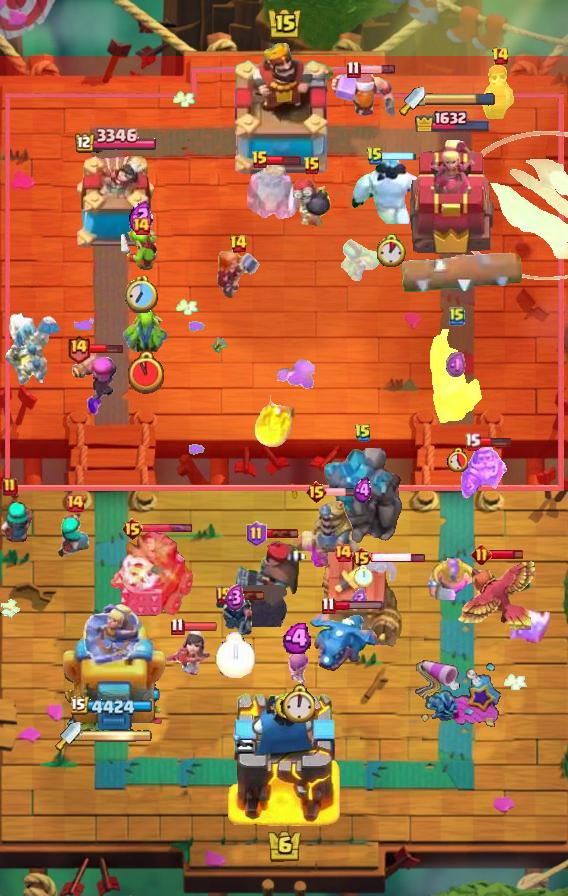bar: (371, 551, 426, 564), (141, 523, 193, 534), (333, 600, 384, 611), (489, 548, 524, 561), (267, 154, 302, 166), (359, 64, 396, 75), (182, 621, 218, 632), (478, 436, 511, 448), (88, 343, 124, 354), (230, 590, 265, 601), (264, 528, 299, 539), (382, 151, 417, 162), (325, 487, 361, 497)
bar-level: (66, 333, 91, 364), (350, 546, 373, 570), (121, 517, 144, 541), (305, 480, 328, 504), (246, 521, 267, 547), (471, 544, 492, 565), (333, 543, 353, 563), (65, 493, 85, 513), (131, 216, 151, 236), (229, 234, 248, 254), (491, 46, 510, 66), (354, 423, 372, 443), (303, 156, 321, 176), (251, 150, 269, 170), (366, 146, 384, 166), (464, 432, 481, 451), (2, 477, 18, 497), (449, 306, 465, 326), (216, 586, 232, 604), (170, 617, 185, 636), (321, 596, 336, 615), (346, 60, 361, 79)
bat: (358, 558, 400, 584)
bomb: (243, 585, 287, 627)
bomber: (291, 175, 333, 227)
clock: (215, 632, 255, 678), (128, 350, 164, 394), (281, 684, 315, 723), (125, 276, 158, 313), (377, 234, 406, 267), (447, 447, 468, 472), (354, 565, 373, 587)
dagger-duchess-tower: (59, 595, 169, 731), (409, 138, 497, 256)
dagger-duchess-tower-bar: (81, 729, 153, 743), (425, 93, 495, 107)
electro-dragon: (307, 609, 377, 673)
elite-barbarian: (428, 557, 477, 600)
elixir: (282, 623, 315, 654), (129, 198, 153, 234), (446, 351, 468, 379), (225, 584, 245, 612), (353, 477, 373, 504), (351, 588, 367, 608)
firecracker: (71, 348, 118, 404)
goblin: (121, 304, 171, 352), (119, 228, 163, 272)
hunter: (232, 538, 310, 598)
ice-spirit-evolution: (507, 606, 553, 648)
king-tower: (227, 688, 342, 826), (228, 41, 340, 181)
knight: (429, 329, 485, 426)
knight-evolution: (461, 442, 507, 500)
lumberjack: (329, 71, 397, 125)
mini-pekka: (213, 591, 257, 639)
princess: (163, 626, 213, 678)
queen-tower: (68, 156, 160, 256)
rascal-girl: (56, 510, 94, 560), (0, 502, 36, 544)
royal-ghost: (244, 158, 300, 224)
skeleton-evolution: (285, 647, 312, 685)
spear-goblin: (334, 239, 382, 283)
the-log: (398, 248, 524, 298)
tower-bar: (72, 128, 156, 155), (71, 696, 157, 718), (414, 108, 492, 132)
valkyrie: (215, 250, 261, 300)
wall-breaker: (478, 64, 522, 122)
